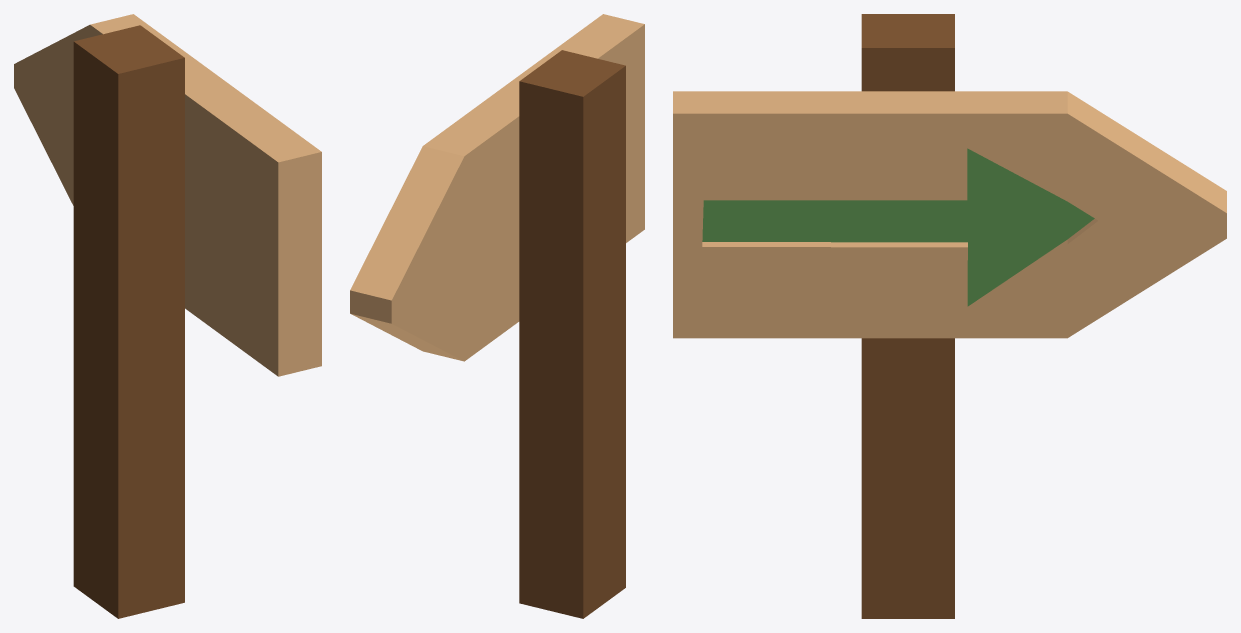
Rendered from Index.fbx.
The picture shows the model from 3 angles, left to right: view 1: azimuth 30°, elevation 25°; view 2: azimuth 150°, elevation 25°; view 3: azimuth 270°, elevation 25°; orthographic projection. The views are drawn at different scales.
Parts seen in each view (by area): view 1: Cube, Cube.001; view 2: Cube, Cube.001; view 3: Cube.001, Cube.
Boxes of the visible parts, x1,y1,x2,y2 form: Cube: (73, 25, 184, 618); Cube.001: (14, 14, 321, 376); Cube: (519, 50, 625, 618); Cube.001: (350, 14, 644, 361); Cube.001: (673, 91, 1226, 338); Cube: (861, 14, 954, 618).
Bounding box in the file's own units: 77.06 × 353 × 310.
